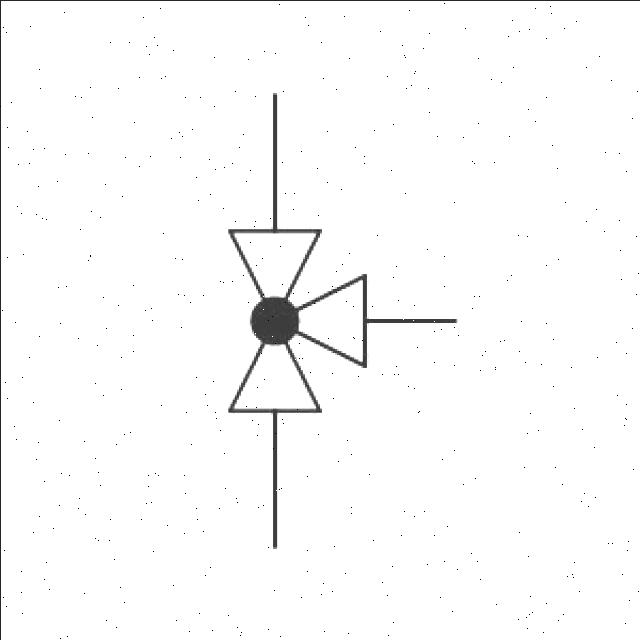3 Way Globe Valve: (180, 181, 450, 489)
